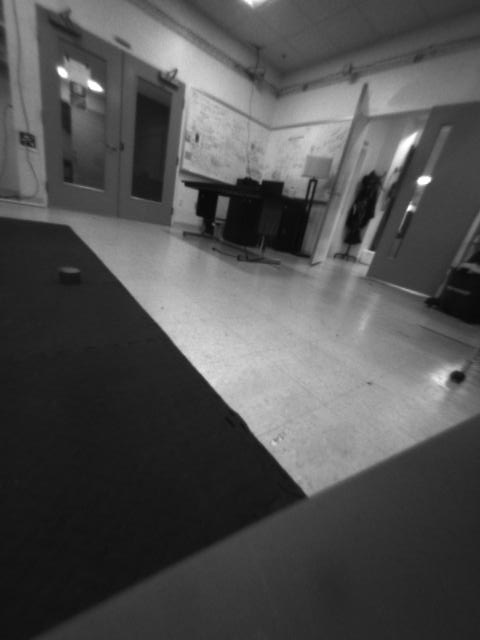dogtoy: (46, 258, 86, 292)
